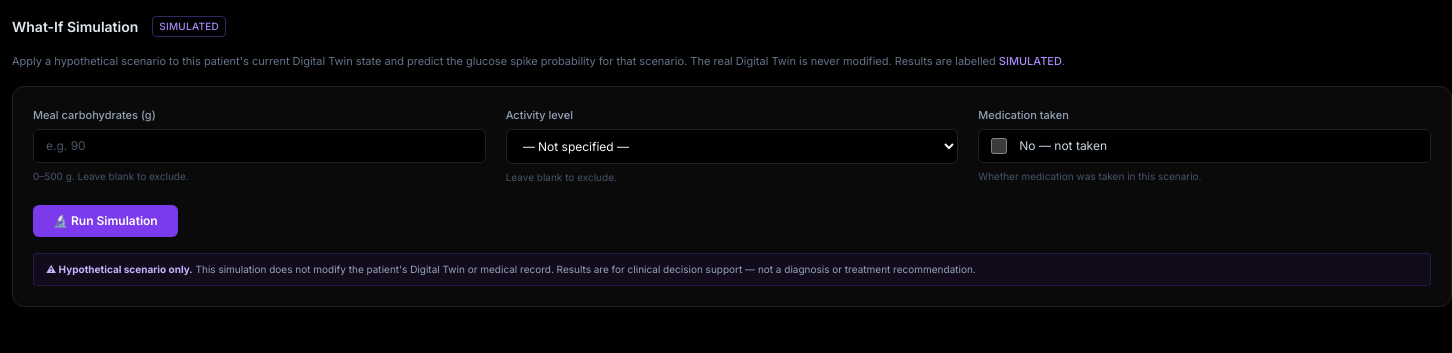
Scenario: WhatIfSimulationPanel › shows at-least-one error when submitting empty form
Click the button with test id "run-simulation-button" at (105, 221), box x1=33 y1=205 x2=178 y2=237
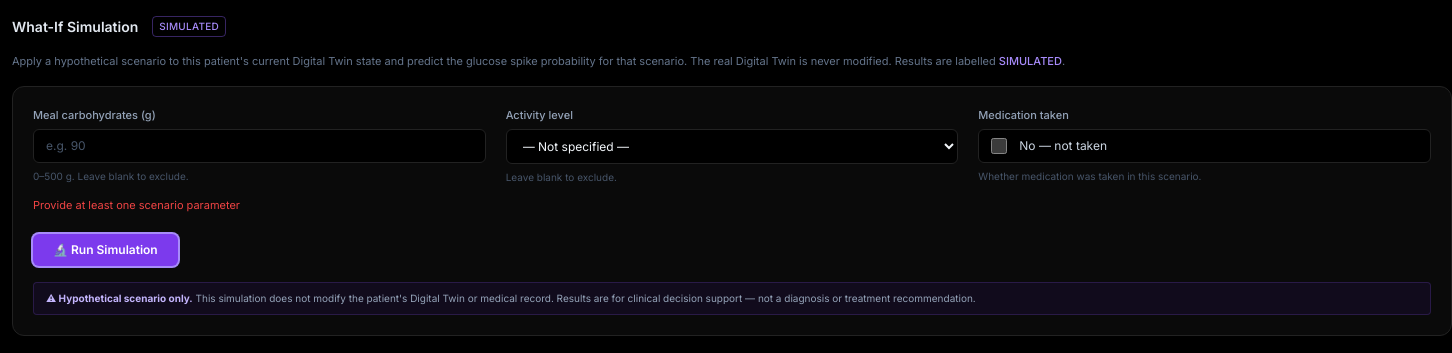
Expected: the message with test id "at-least-one-error" reads "Provide at least one scenario parameter", x1=33 y1=198 x2=240 y2=212
